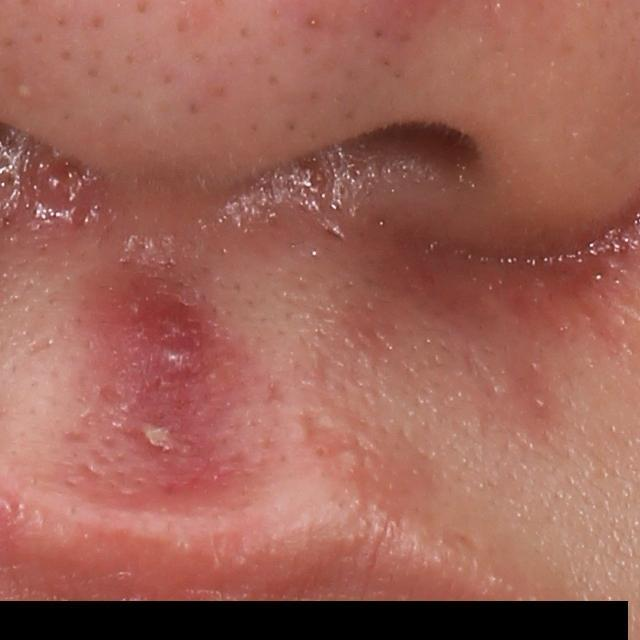atrophic_scar: (464, 345, 499, 405), (98, 379, 128, 408)
papule: (116, 281, 205, 387)
pustule: (133, 418, 180, 451)
